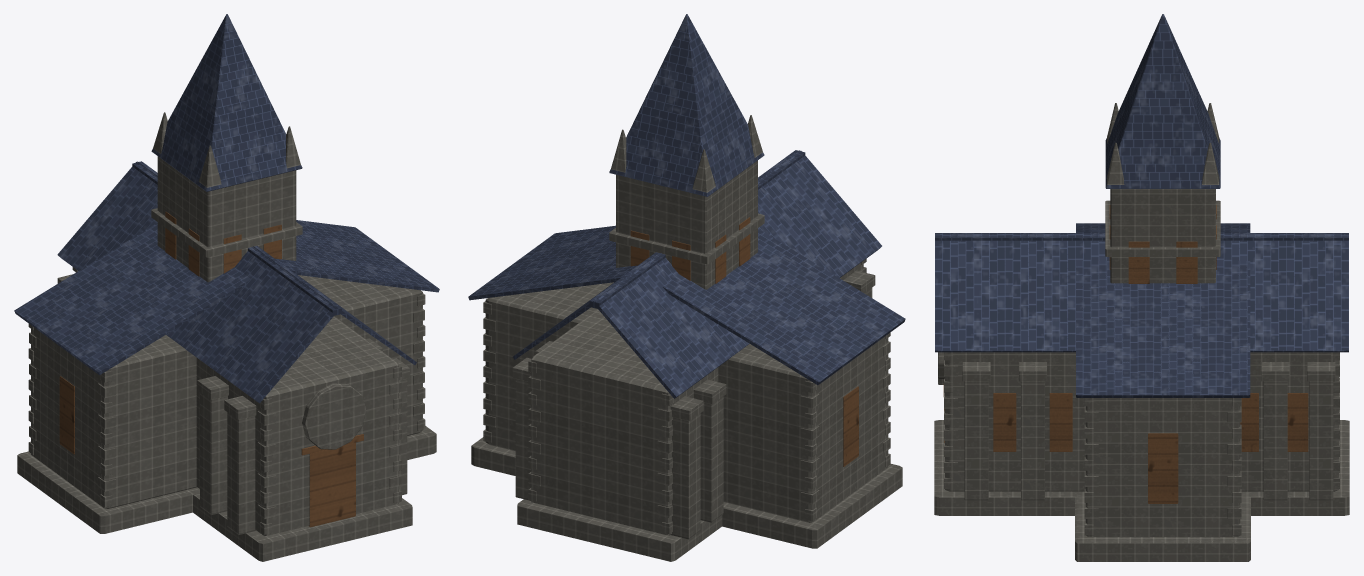
The model's file is cathedral.gltf.
The picture shows the model from 3 angles, left to right: view 1: azimuth 30°, elevation 25°; view 2: azimuth 150°, elevation 25°; view 3: azimuth 270°, elevation 25°; orthographic projection. The views are drawn at different scales.
Parts seen in each view (by area): view 1: Cathedral; view 2: Cathedral; view 3: Cathedral.
Boxes of the visible parts, x1,y1,x2,y2 form: Cathedral: [14, 14, 439, 561]; Cathedral: [468, 14, 905, 561]; Cathedral: [934, 14, 1349, 561].
Bounding box in the file's own units: 5.79 × 7.26 × 5.9.
Materials: 7 (6 with a texture image).
